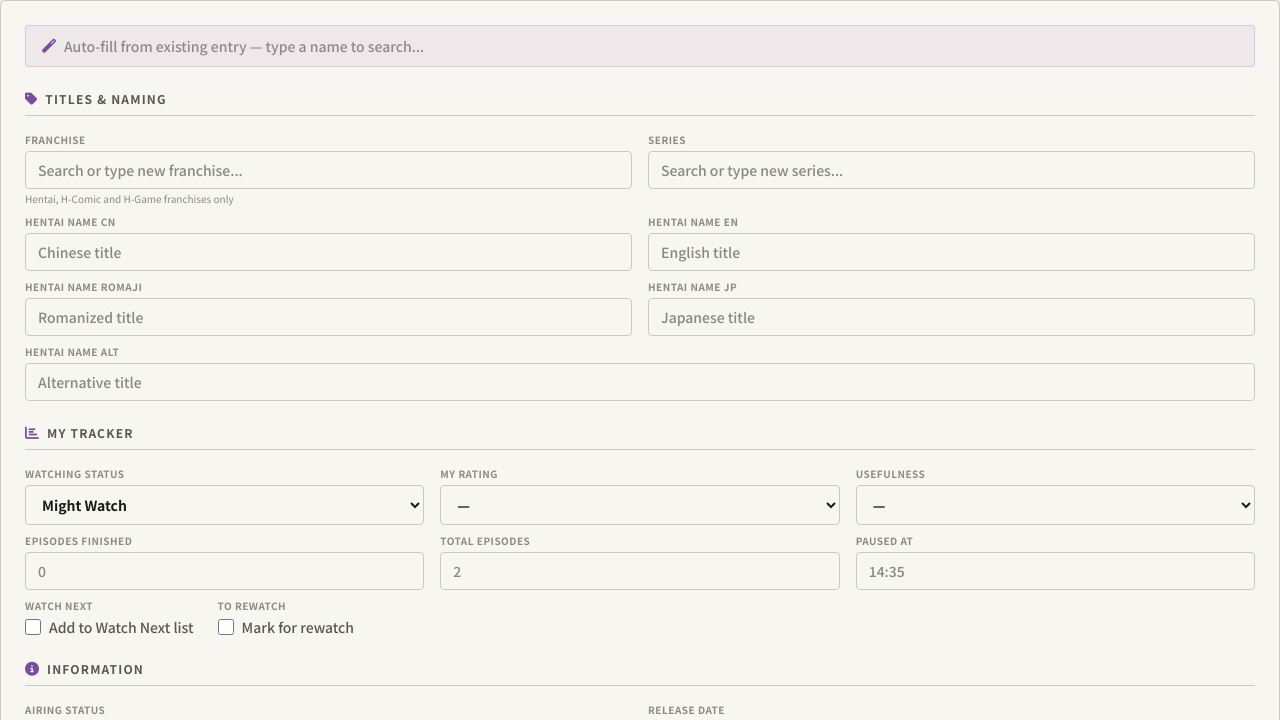
HentaiAddTab › offers the restricted family's franchises and no mainstream one
Step 1. Click the dropdown with placeholder "Search or type new franchise..." → (328, 170), box [25,151,632,189]
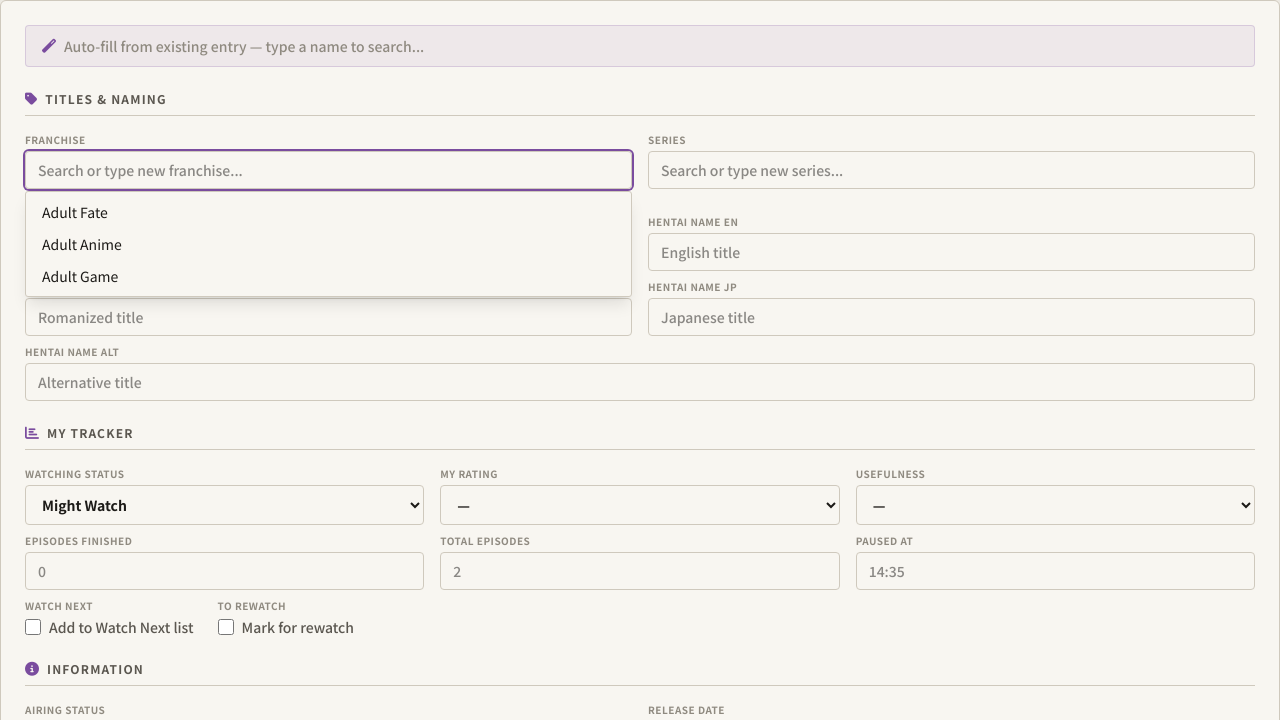
Now the option "Adult Fate" is shown, box [42,202,108,222]
Now the option "Adult Anime" is shown, box [42,234,122,254]
Now the option "Adult Game" is shown, box [42,266,118,286]
